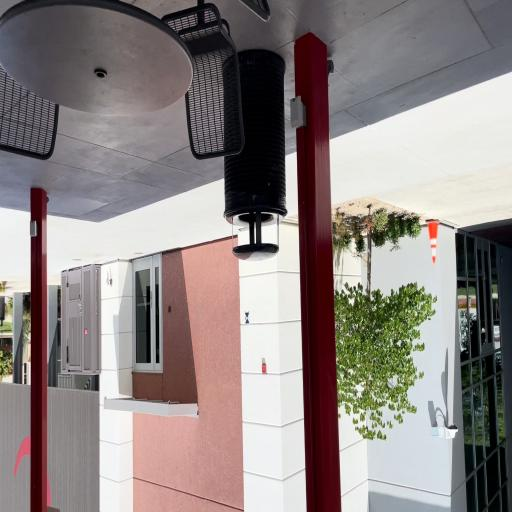target9: (244, 312, 250, 324)
